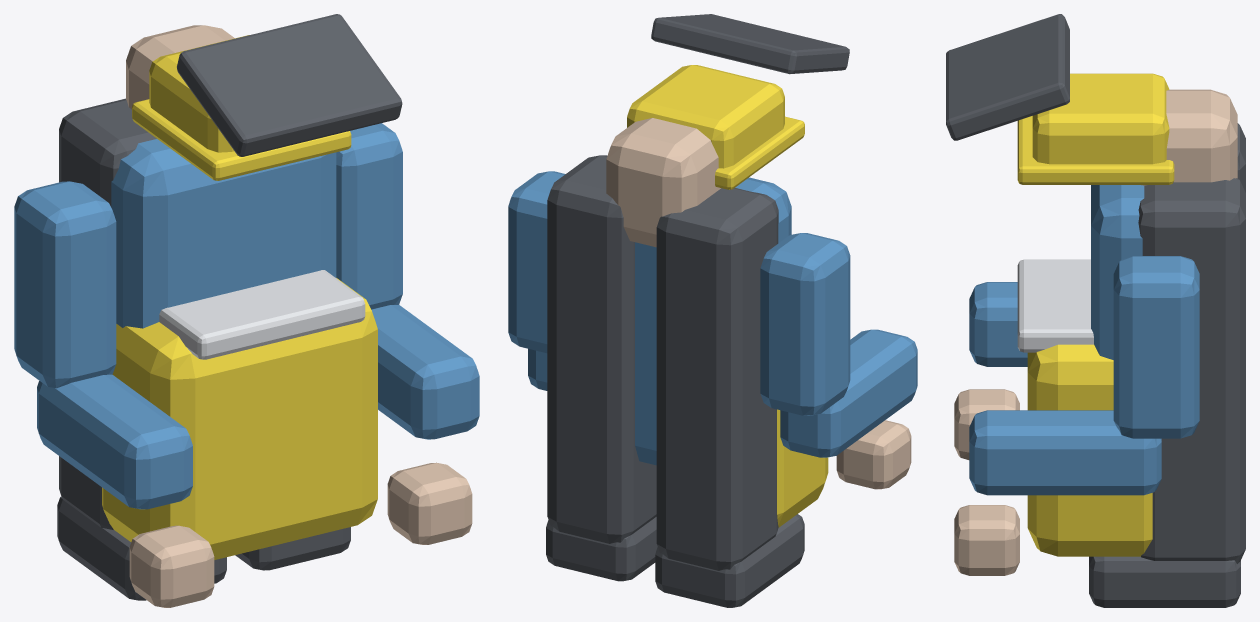
File: btf-inspector.glb
The picture shows the model from 3 angles, left to right: view 1: azimuth 30°, elevation 25°; view 2: azimuth 150°, elevation 25°; view 3: azimuth 270°, elevation 25°; orthographic projection. The views are drawn at different scales.
Parts seen in each view (by area): view 1: 174-quality-inspector-with-tablet/1, 174-quality-inspector-with-tablet/2, 174-quality-inspector-with-tablet/0, 174-quality-inspector-with-tablet/4, 174-quality-inspector-with-tablet/3; view 2: 174-quality-inspector-with-tablet/0, 174-quality-inspector-with-tablet/1, 174-quality-inspector-with-tablet/2, 174-quality-inspector-with-tablet/4; view 3: 174-quality-inspector-with-tablet/0, 174-quality-inspector-with-tablet/1, 174-quality-inspector-with-tablet/2, 174-quality-inspector-with-tablet/4, 174-quality-inspector-with-tablet/3.
Part boxes in pixels (x1,y1,x2,y2): 174-quality-inspector-with-tablet/1: (14, 123, 479, 509); 174-quality-inspector-with-tablet/2: (102, 35, 377, 559); 174-quality-inspector-with-tablet/0: (57, 14, 402, 600); 174-quality-inspector-with-tablet/4: (126, 25, 472, 607); 174-quality-inspector-with-tablet/3: (159, 270, 365, 359); 174-quality-inspector-with-tablet/0: (546, 14, 849, 607); 174-quality-inspector-with-tablet/1: (508, 171, 917, 465); 174-quality-inspector-with-tablet/2: (627, 65, 828, 527); 174-quality-inspector-with-tablet/4: (606, 118, 911, 489); 174-quality-inspector-with-tablet/0: (946, 14, 1245, 607); 174-quality-inspector-with-tablet/1: (969, 185, 1199, 495); 174-quality-inspector-with-tablet/2: (1017, 73, 1174, 556); 174-quality-inspector-with-tablet/4: (954, 89, 1237, 575); 174-quality-inspector-with-tablet/3: (1017, 259, 1093, 352).
Bounding box in the file's own units: 24575 × 36795 × 19415.
